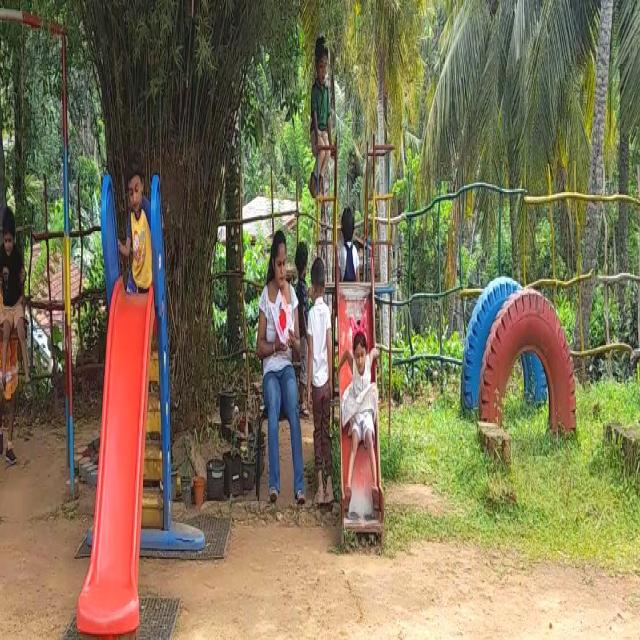adult: (249, 220, 303, 514)
child: (340, 314, 384, 514), (307, 246, 336, 522), (302, 19, 337, 206), (305, 30, 339, 196), (119, 147, 157, 290), (0, 202, 27, 390)
